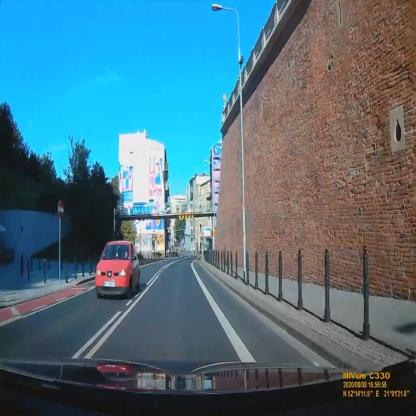cars: (95, 240, 141, 299)
